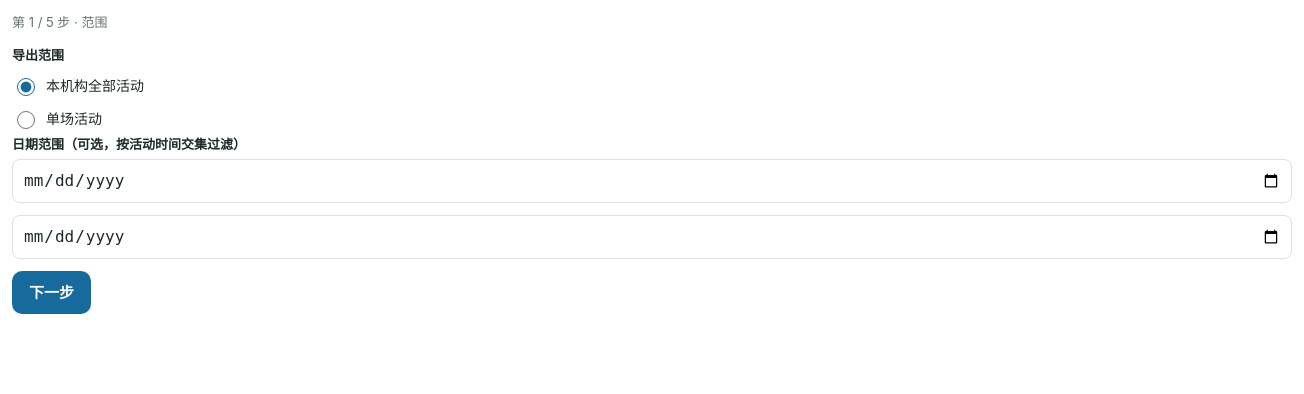
Test: ExportWizard 五步流转与校验 › 单活动范围未选活动时第 1 步被拦截（不进入数据域）
Click the radio button labelled "单场活动".
click(26, 120)  # box [17, 111, 35, 129]
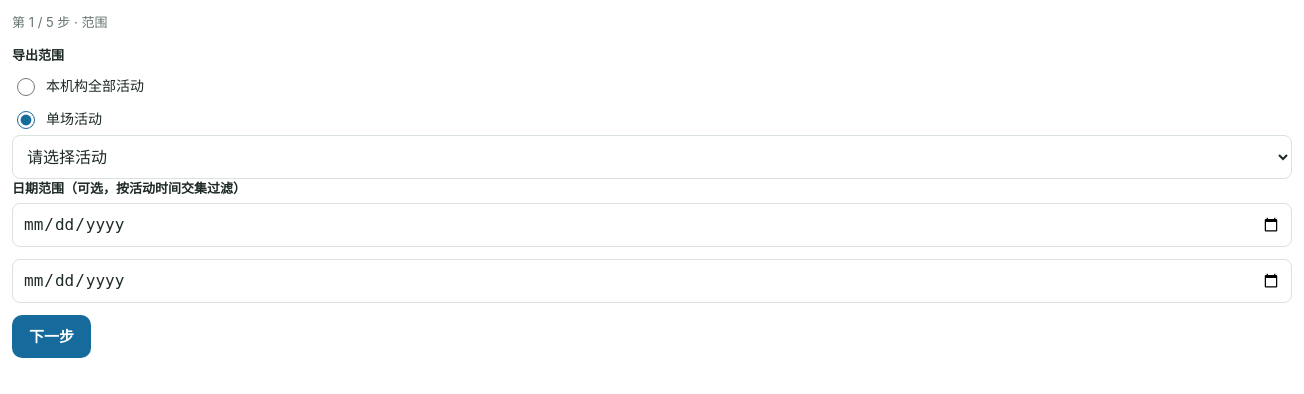
Click the button "下一步".
click(52, 336)  # box [12, 314, 91, 358]
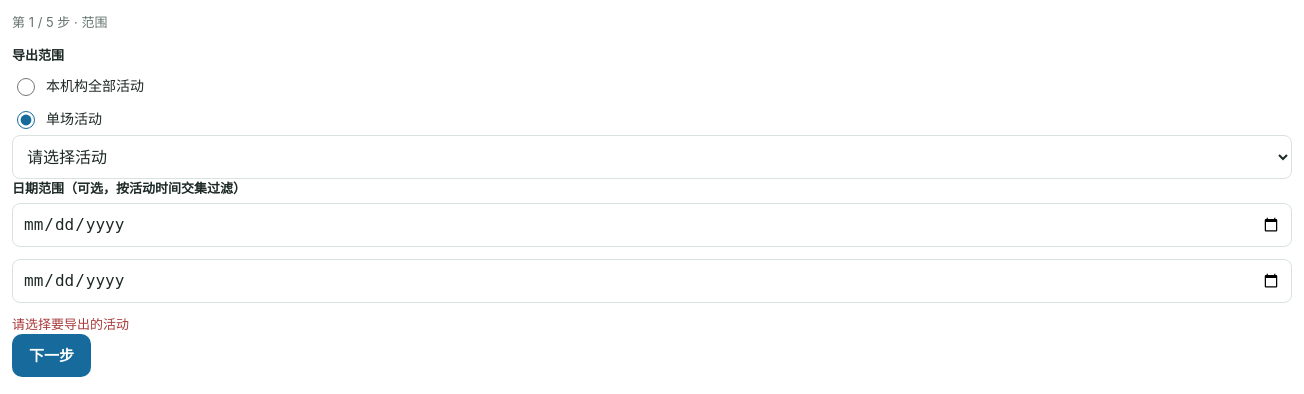
Now the text "请选择要导出的活动" is shown, box [12, 316, 129, 332]
